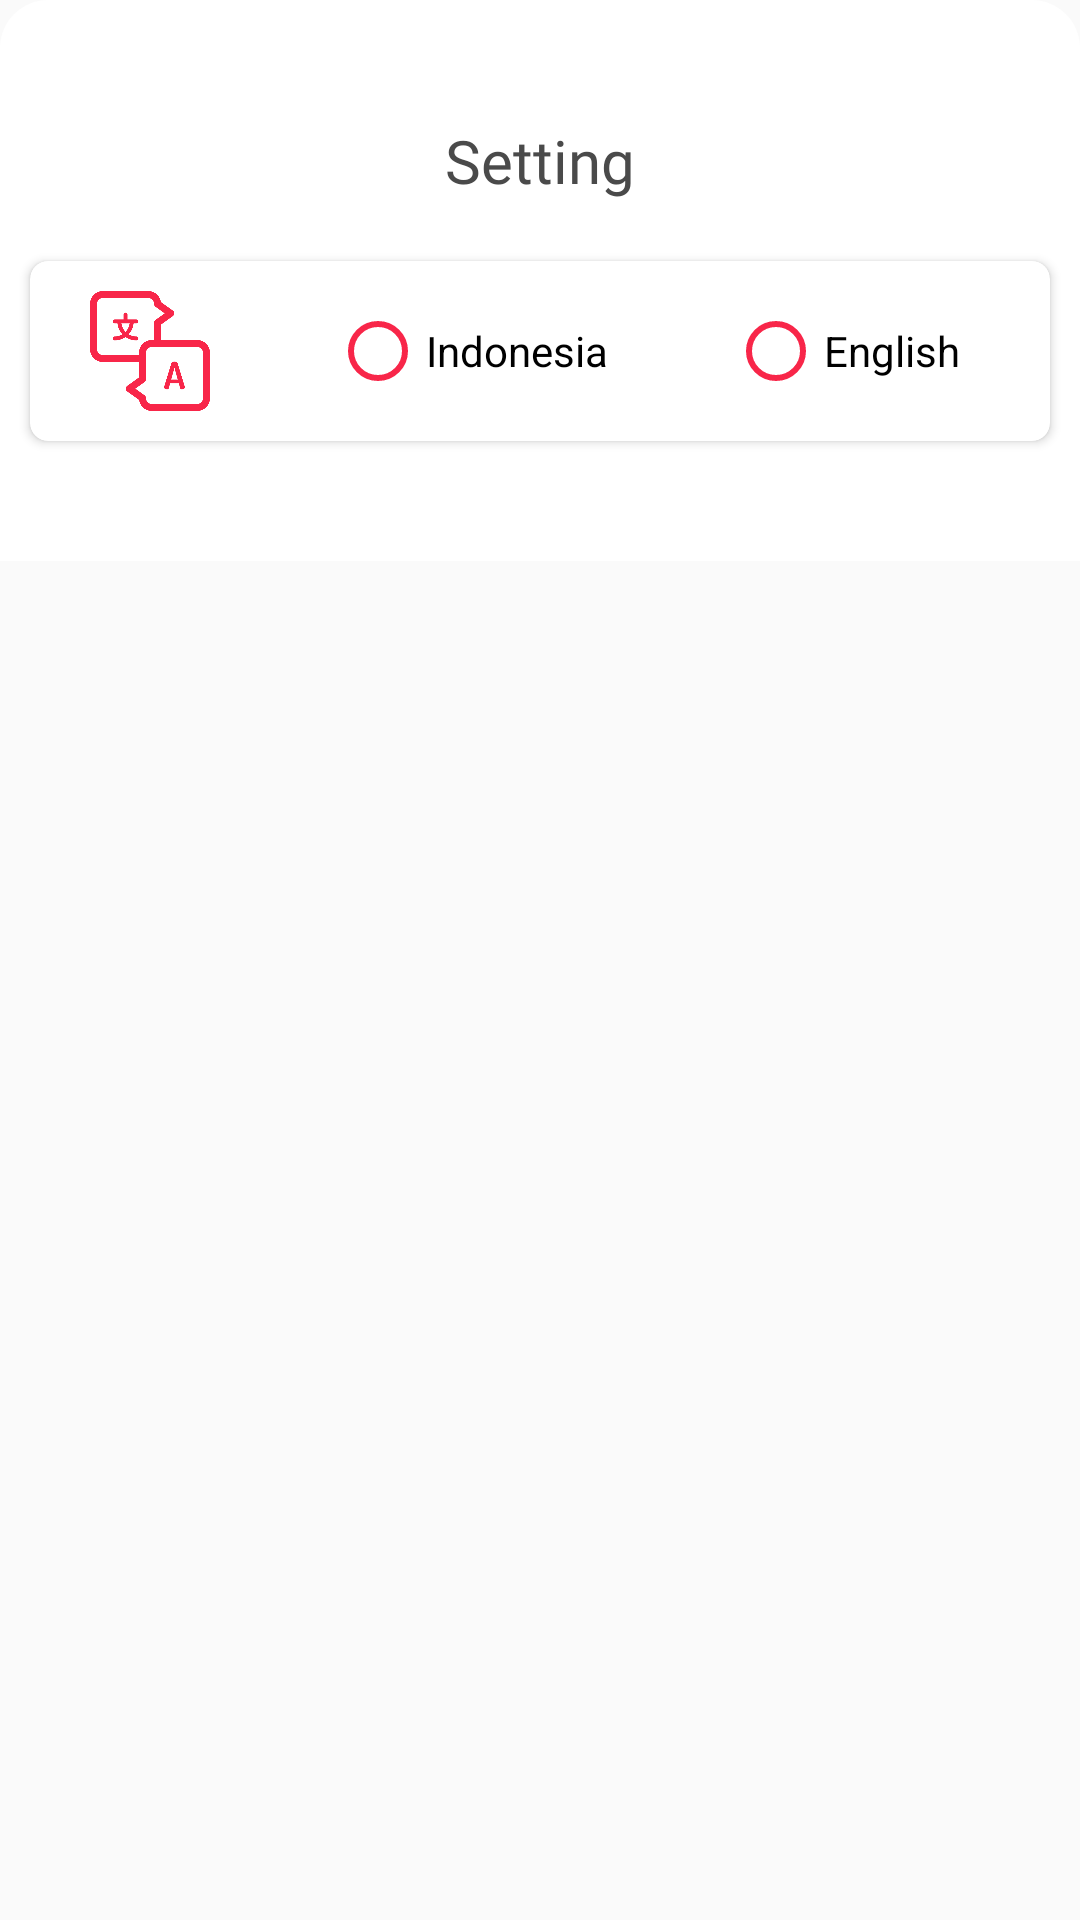

Icons on this 1080*1920 Android screen, each with its box as (x1, y1, x2, y2):
lang: (90, 291, 210, 411)
